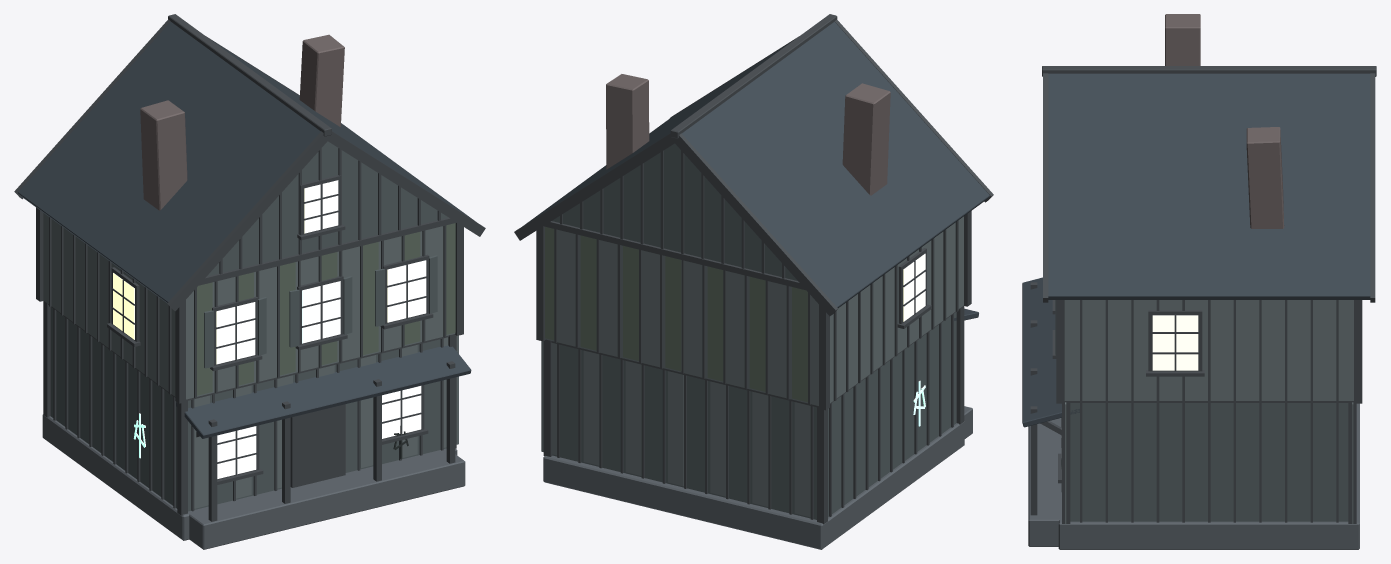
The model's file is outdoor_inn.glb.
The picture shows the model from 3 angles, left to right: view 1: azimuth 30°, elevation 25°; view 2: azimuth 150°, elevation 25°; view 3: azimuth 270°, elevation 25°; orthographic projection. The views are drawn at different scales.
Parts seen in each view (by area): view 1: Outdoor_Inn; view 2: Outdoor_Inn; view 3: Outdoor_Inn.
Boxes of the visible parts, x1=… form: Outdoor_Inn: x1=14, y1=14, x2=485, y2=549; Outdoor_Inn: x1=514, y1=14, x2=993, y2=549; Outdoor_Inn: x1=1022, y1=14, x2=1376, y2=549.
Size of the model in its own units: 10.36 by 12.04 by 9.4.
